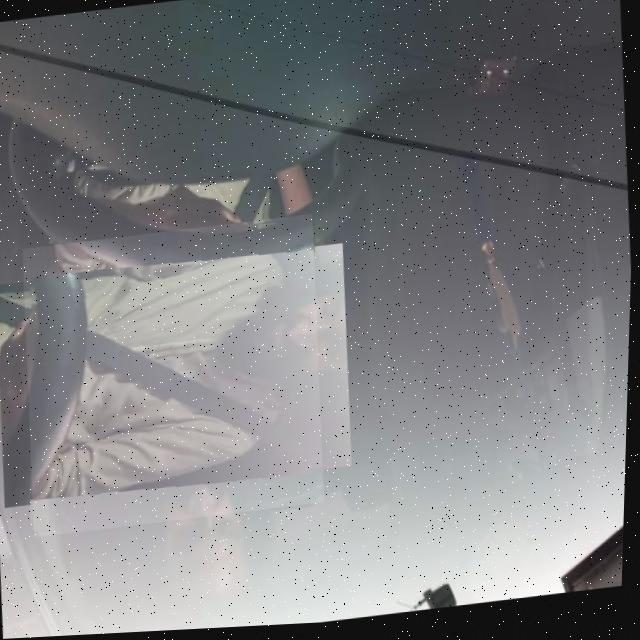seatbelt: (16, 216, 334, 538)
